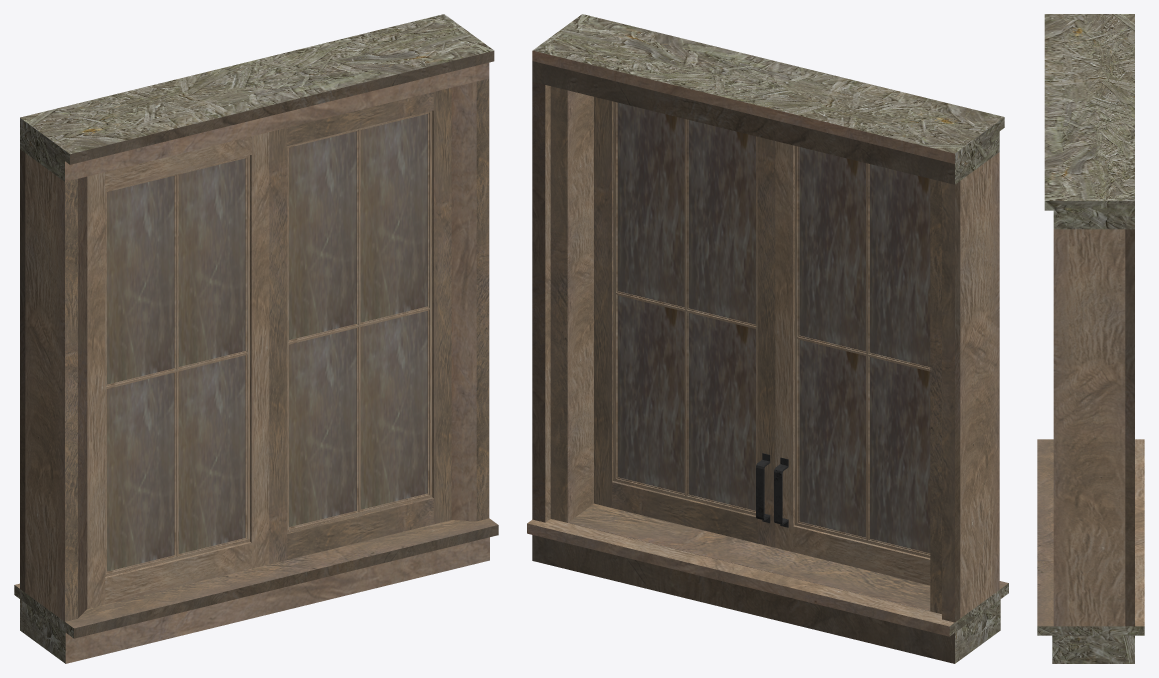
Rendered from WindowFrameA.fbx.
The picture shows the model from 3 angles, left to right: view 1: azimuth 30°, elevation 25°; view 2: azimuth 150°, elevation 25°; view 3: azimuth 270°, elevation 25°; orthographic projection. The views are drawn at different scales.
Parts seen in each view (by area): view 1: WindowFrameA, WIndowA_Right, WindowA_Left; view 2: WindowFrameA, WindowA_Left, WIndowA_Right; view 3: WindowFrameA.
Boxes of the visible parts, left/top/right/bottom form: WindowFrameA: left=14, top=14, right=498, bottom=663; WIndowA_Right: left=87, top=132, right=269, bottom=608; WindowA_Left: left=269, top=87, right=451, bottom=564; WindowFrameA: left=527, top=14, right=1008, bottom=663; WindowA_Left: left=594, top=97, right=775, bottom=547; WIndowA_Right: left=774, top=141, right=930, bottom=585; WindowFrameA: left=1037, top=14, right=1144, bottom=663.
Size of the model in its own units: 152 by 176 by 37.02.
